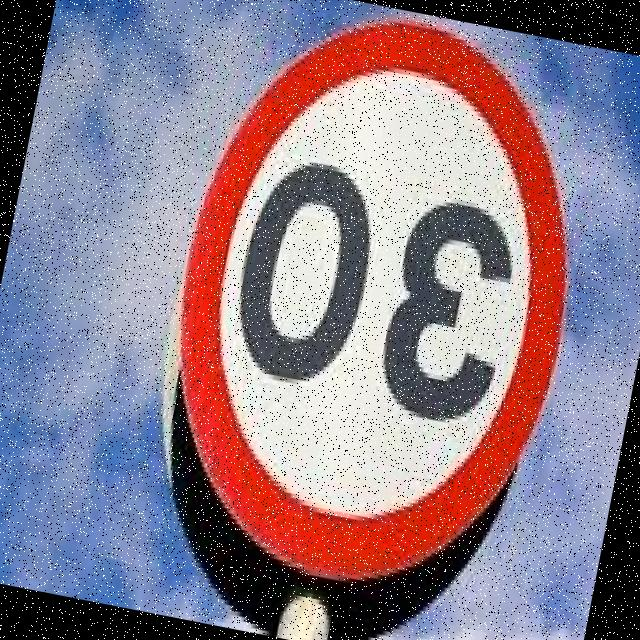speed_limit_30: (131, 0, 626, 615)
